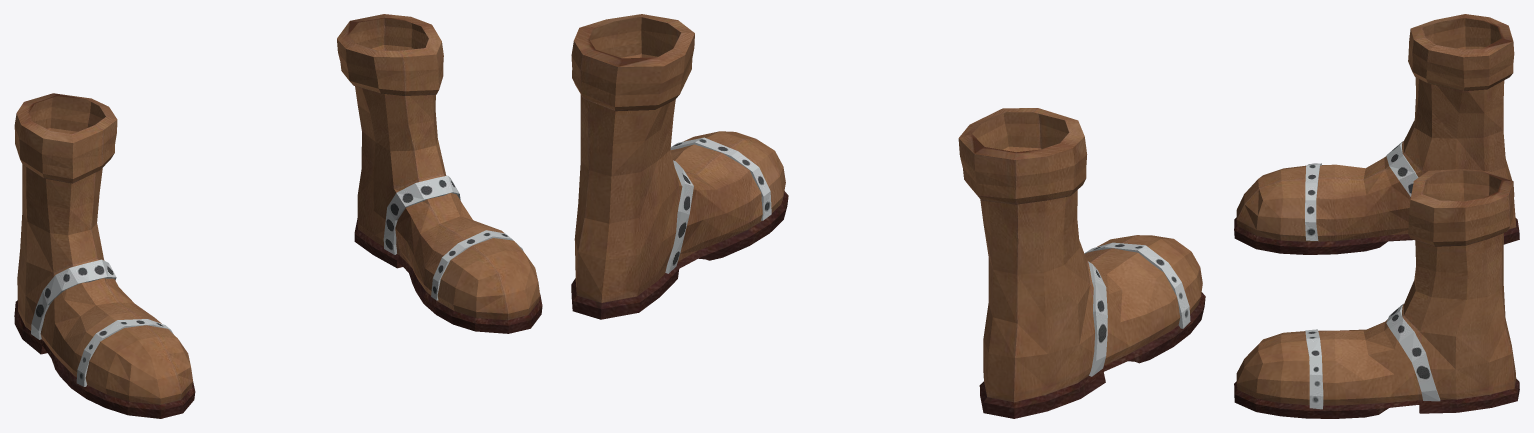
Rendered from mhw_maciekg_leather_boots.glb.
3 views of the same model, side by side, from view 1: azimuth 30°, elevation 25°; view 2: azimuth 150°, elevation 25°; view 3: azimuth 270°, elevation 25° (orthographic). The views are drawn at different scales.
Parts seen in each view (by area): view 1: mhw_maciekg_leather_boots; view 2: mhw_maciekg_leather_boots; view 3: mhw_maciekg_leather_boots.
Boxes of the visible parts, x1,y1,x2,y2 form: mhw_maciekg_leather_boots: (14, 14, 542, 418); mhw_maciekg_leather_boots: (571, 14, 1205, 418); mhw_maciekg_leather_boots: (1234, 14, 1519, 418).
Size of the model in its own units: 0.5501 by 0.2522 by 0.3149.
1 material, 1 textured.
